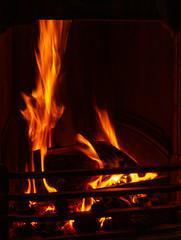fire: (14, 16, 162, 229)
